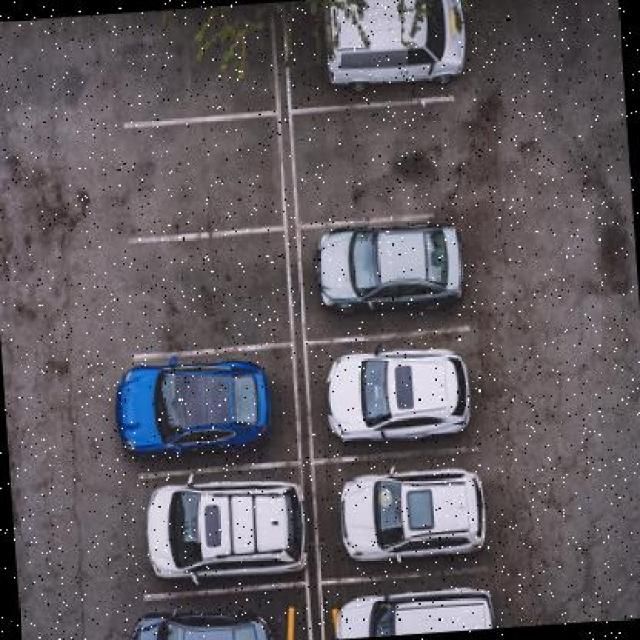Car: (312, 326, 499, 466), (134, 469, 317, 590), (329, 459, 506, 575), (112, 343, 279, 460), (312, 220, 486, 327), (325, 1, 481, 99), (327, 575, 507, 640), (123, 593, 280, 640)
Empty: (297, 104, 474, 227), (124, 116, 281, 232), (122, 9, 275, 116), (143, 241, 294, 346)
